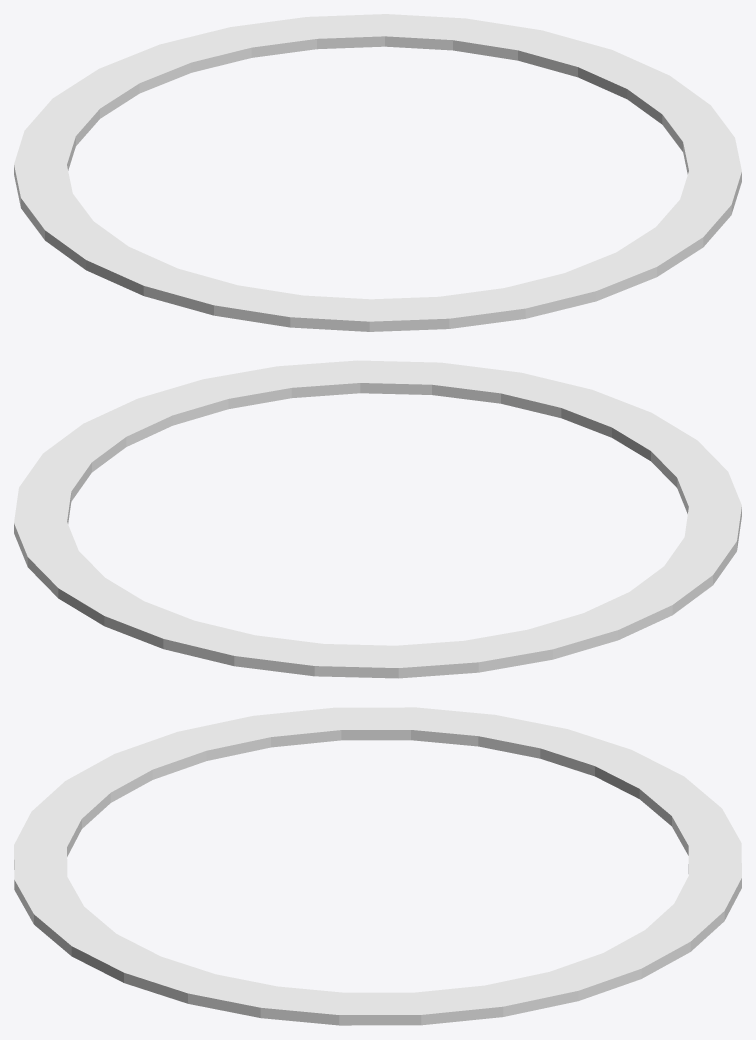
The model's file is Disc_Insert.FBX.
The picture shows the model from 3 angles, top to bottom: view 1: azimuth 30°, elevation 25°; view 2: azimuth 150°, elevation 25°; view 3: azimuth 270°, elevation 25°; orthographic projection.
Visible parts, largest first — view 1: Disc_insert; view 2: Disc_insert; view 3: Disc_insert.
Part boxes in pixels (x1,y1,x2,y2): Disc_insert: [14, 14, 741, 331]; Disc_insert: [14, 360, 741, 678]; Disc_insert: [14, 707, 741, 1025].
Size of the model in its own units: 24.87 by 0.3915 by 24.87.
